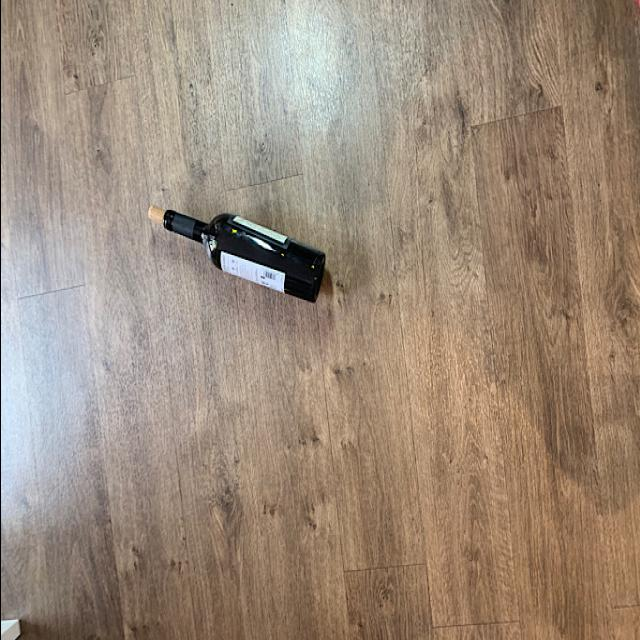Glass Bottle: (161, 198, 327, 304)
